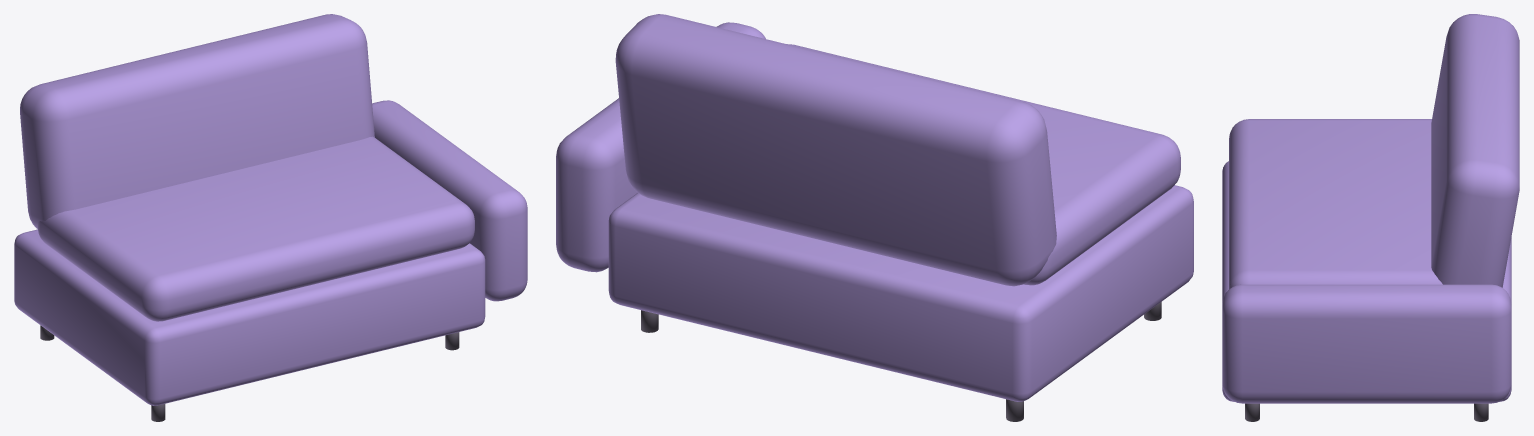
Rendered from sofa_arm.glb.
3 renders of one model, left to right at view 1: azimuth 30°, elevation 25°; view 2: azimuth 150°, elevation 25°; view 3: azimuth 270°, elevation 25°, orthographic. The views are drawn at different scales.
Visible parts, largest first — view 1: base; view 2: base; view 3: base.
Part boxes in pixels (<box>): base: <box>14,14,527,421</box>; base: <box>556,14,1193,421</box>; base: <box>1222,14,1519,421</box>.
Bounding box in the file's own units: 1.36 × 0.8423 × 0.8842.
